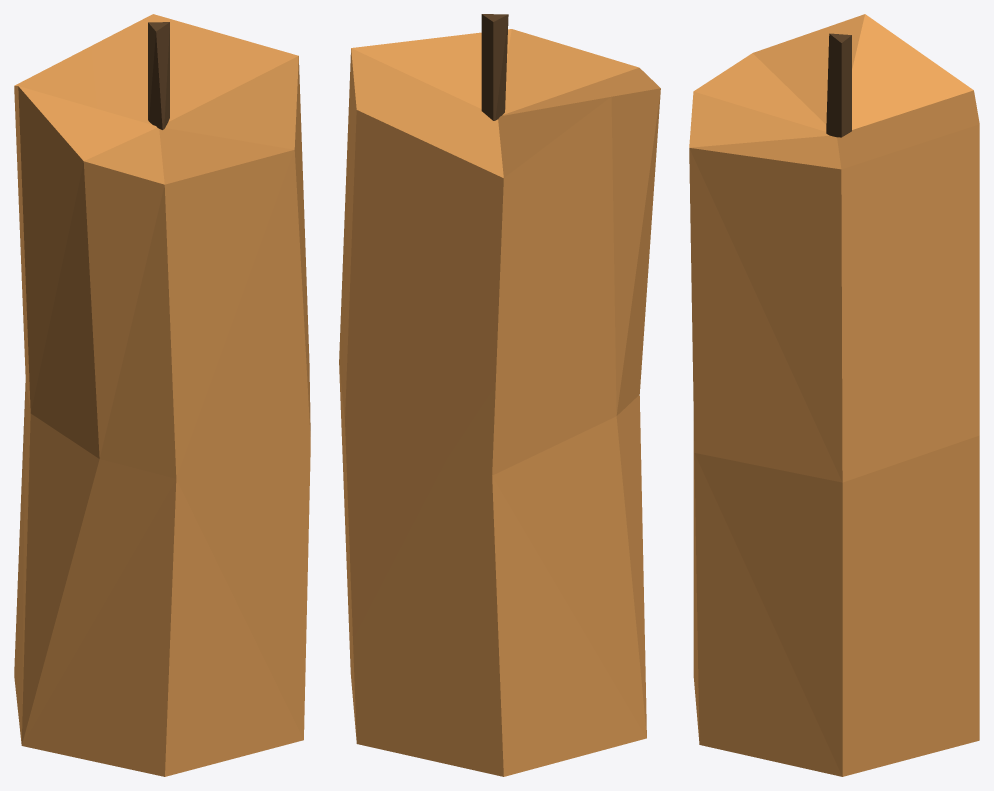
File: Candle_02.fbx
3 views of the same model, side by side, from view 1: azimuth 30°, elevation 25°; view 2: azimuth 150°, elevation 25°; view 3: azimuth 270°, elevation 25° (orthographic). The views are drawn at different scales.
Parts seen in each view (by area): view 1: Candle_02; view 2: Candle_02; view 3: Candle_02.
Boxes of the visible parts, x1,y1,x2,y2 form: Candle_02: (14,14,310,776); Candle_02: (339,14,660,776); Candle_02: (689,14,979,776).
Size of the model in its own units: 0.2342 by 0.5154 by 0.202.
